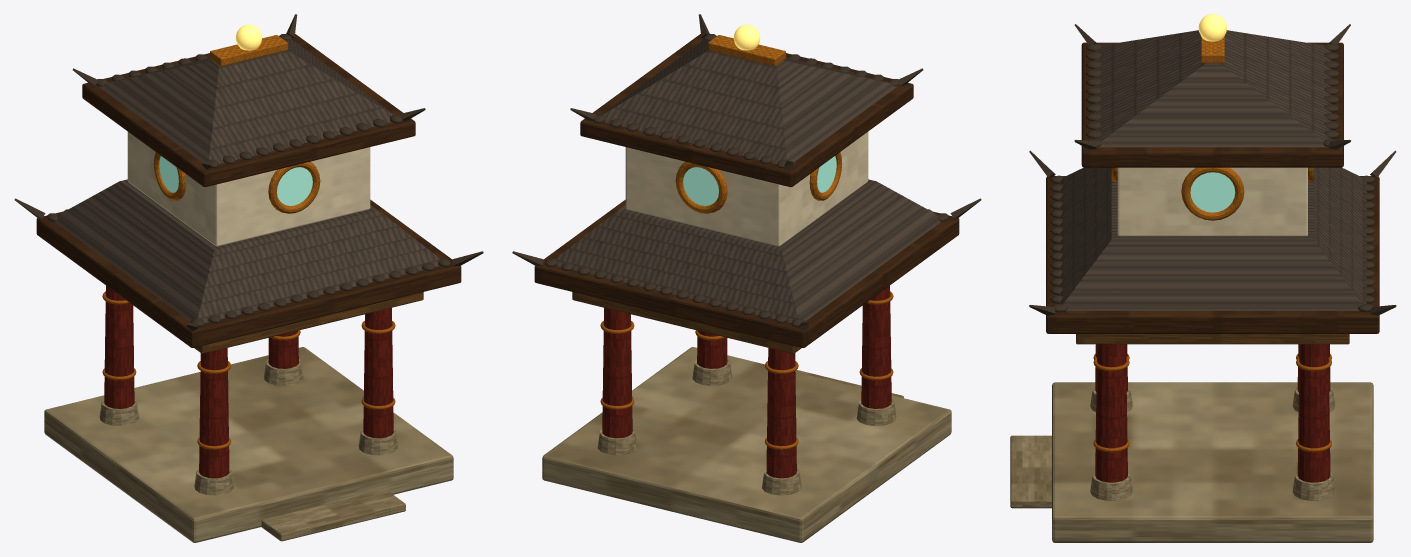
File: khuevancac.glb
The picture shows the model from 3 angles, left to right: view 1: azimuth 30°, elevation 25°; view 2: azimuth 150°, elevation 25°; view 3: azimuth 270°, elevation 25°; orthographic projection. The views are drawn at different scales.
Visible parts, largest first — view 1: base, roof1, roof2, upper_wall, roof1_eave, roof2_eave, step, column.002, column.003, column, floor2, roof2_ridge (+9 smaller); view 2: base, roof1, roof2, upper_wall, roof1_eave, roof2_eave, column, column.001, column.002, floor2, roof2_ridge, window2_disc (+8 smaller); view 3: base, roof1, roof2, upper_wall, roof1_eave, roof2_eave, column.001, column.003, step, floor2, window1_disc, window1_ring (+4 smaller).
Boxes of the visible parts, x1,y1,x2,y2 form: base: (44,347,453,542); roof1: (55,179,440,322); roof2: (98,38,394,163); upper_wall: (127,132,370,246); roof1_eave: (36,199,461,347); roof2_eave: (82,34,415,187); step: (261,489,405,541); column.002: (199,348,229,478); column.003: (363,308,393,438); column: (104,285,134,408); floor2: (194,292,423,353); roof2_ridge: (210,35,287,66); base: (542,347,951,542); roof1: (555,179,940,322); roof2: (601,38,897,163); upper_wall: (625,132,868,246); roof1_eave: (534,199,959,347); roof2_eave: (580,34,913,187); column: (766,348,796,478); column.001: (602,308,632,438); column.002: (861,285,891,408); floor2: (572,292,801,353); roof2_ridge: (708,35,785,66); window2_disc: (683,167,718,205); base: (1052,382,1373,542); roof1: (1058,167,1367,310); roof2: (1093,30,1331,147); upper_wall: (1117,167,1307,236); roof1_eave: (1046,176,1379,333); roof2_eave: (1081,42,1343,167); column.001: (1297,344,1330,482); column.003: (1095,344,1127,482); step: (1010,435,1051,508); floor2: (1076,334,1349,344); window1_disc: (1190,172,1235,212); window1_ring: (1181,167,1244,220).
Bounding box in the file's own units: 6.17 × 8.54 × 6.49.
12 materials, 10 textured.
